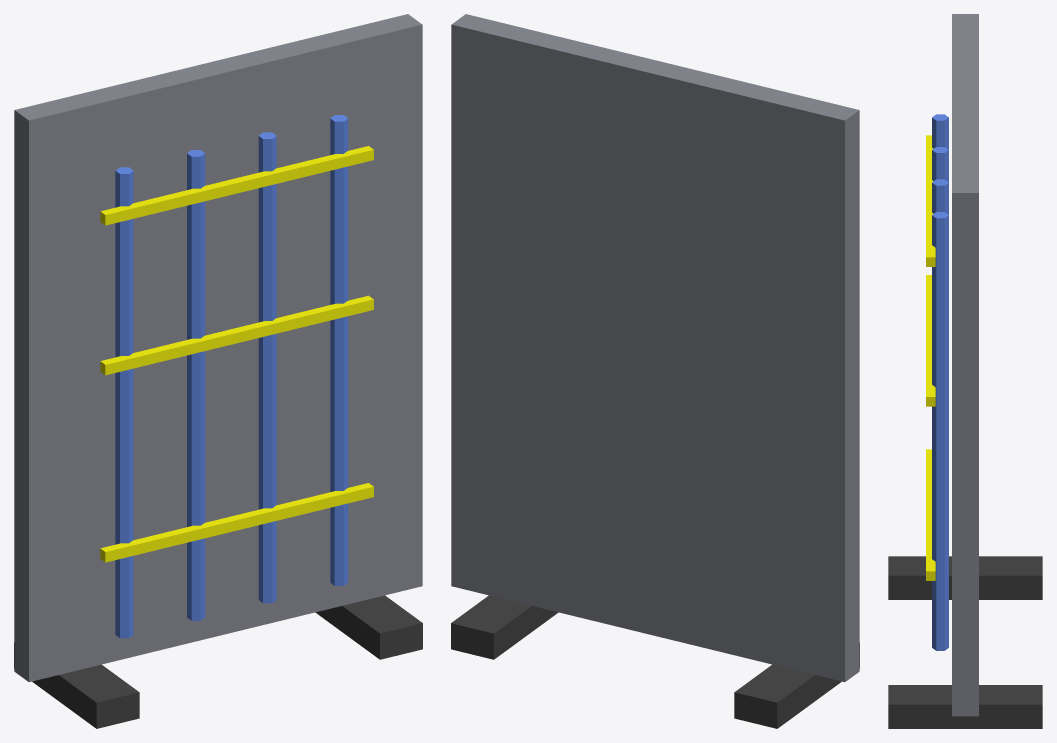
The picture shows the model from 3 angles, left to right: view 1: azimuth 30°, elevation 25°; view 2: azimuth 150°, elevation 25°; view 3: azimuth 270°, elevation 25°; orthographic projection. The views are drawn at different scales.
Parts seen in each view (by area): view 1: Panel, Cable run, Cable run.002, Cable run.003, Cable run.001, Cable tie.001, Cable tie, Cable tie.002, Panel foot, Panel foot.001; view 2: Panel, Panel foot, Panel foot.001; view 3: Panel, Cable run.003, Panel foot.001, Panel foot, Cable tie.002, Cable tie.001, Cable tie, Cable run, Cable run.002, Cable run.001.
Boxes of the visible parts, left/top/right/bottom form: Panel: left=14, top=14, right=422, bottom=681; Cable run: left=115, top=167, right=133, bottom=638; Cable run.002: left=258, top=132, right=276, bottom=603; Cable run.003: left=330, top=115, right=348, bottom=585; Cable run.001: left=187, top=150, right=205, bottom=620; Cable tie.001: left=100, top=295, right=373, bottom=375; Cable tie: left=100, top=483, right=373, bottom=562; Cable tie.002: left=100, top=146, right=373, bottom=225; Panel foot: left=14, top=642, right=139, bottom=728; Panel foot.001: left=315, top=595, right=422, bottom=659; Panel: left=451, top=14, right=859, bottom=681; Panel foot: left=734, top=642, right=859, bottom=728; Panel foot.001: left=451, top=595, right=558, bottom=659; Panel: left=952, top=14, right=978, bottom=716; Cable run.003: left=932, top=212, right=948, bottom=650; Panel foot.001: left=888, top=685, right=1042, bottom=728; Panel foot: left=888, top=556, right=1042, bottom=599; Cable tie.002: left=926, top=135, right=935, bottom=266; Cable tie.001: left=926, top=275, right=935, bottom=406; Cable tie: left=926, top=449, right=935, bottom=580; Cable run: left=932, top=114, right=948, bottom=149; Cable run.002: left=932, top=179, right=948, bottom=214; Cable run.001: left=932, top=147, right=948, bottom=182.
Size of the model in its own units: 1.1 by 1.58 by 0.4.
1 material, 1 textured.
